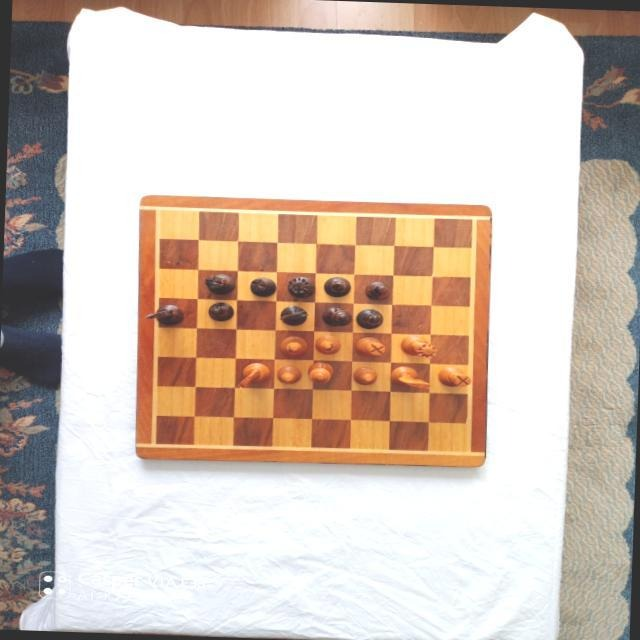black-bishop: (321, 275, 351, 297), (354, 308, 383, 328)
black-king: (319, 305, 352, 326)
black-knight: (141, 302, 184, 325), (276, 305, 307, 327)
black-pawn: (206, 302, 234, 322), (364, 281, 390, 300)
black-queen: (285, 275, 315, 298)
black-rook: (202, 272, 234, 295), (247, 277, 276, 297)
white-bishop: (278, 335, 308, 357), (313, 335, 341, 355)
white-king: (306, 360, 334, 383)
white-knight: (234, 361, 269, 390), (389, 365, 430, 389)
white-pawn: (350, 366, 377, 385), (275, 364, 301, 383)
white-queen: (398, 334, 437, 358)
white-rook: (436, 365, 470, 386), (352, 336, 385, 356)
